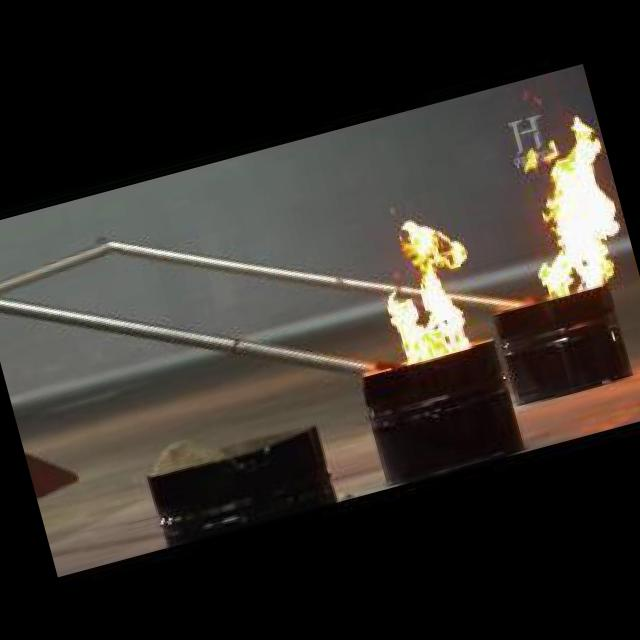Fire: (484, 94, 640, 307), (338, 202, 488, 374)
